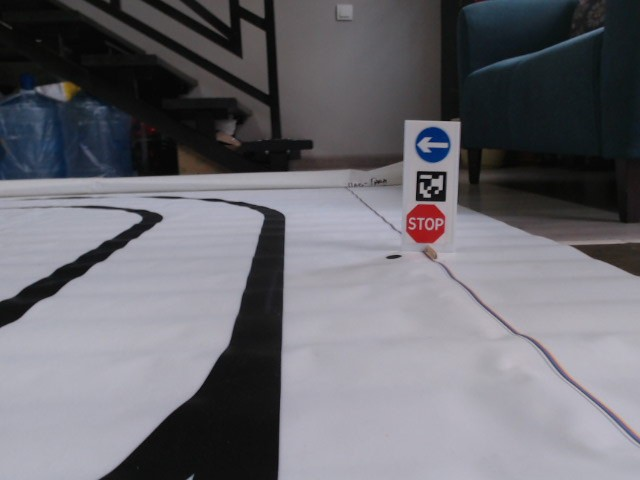Stop: (404, 202, 448, 246)
